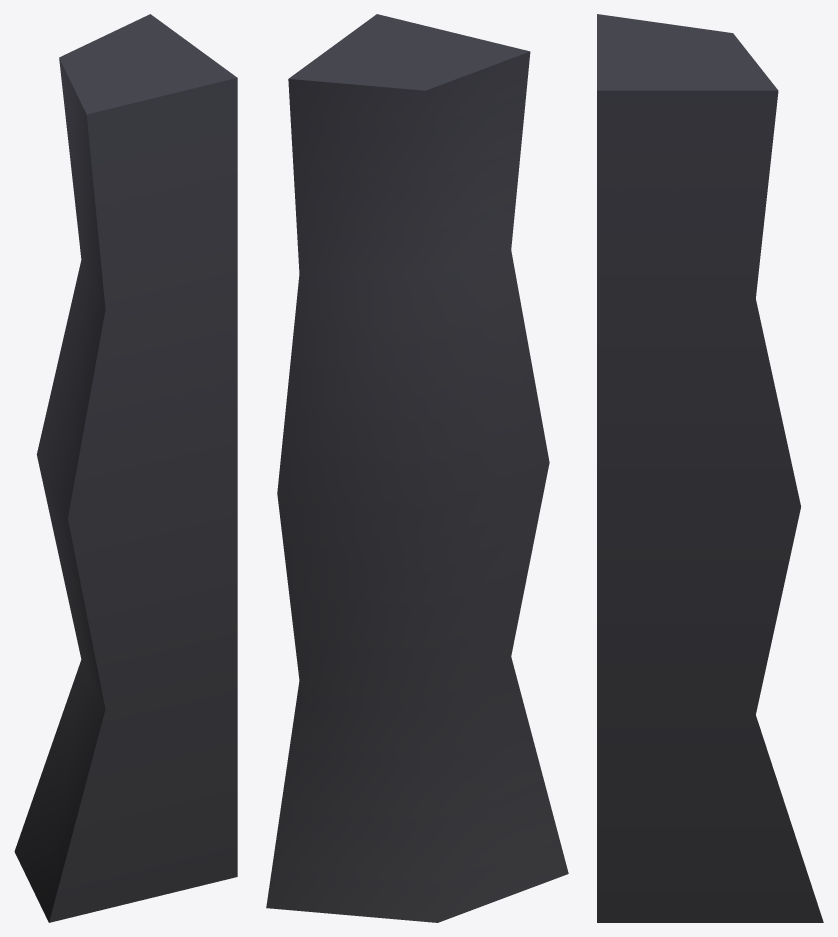
The model's file is template-wall-corner.fbx.
3 views of the same model, side by side, from view 1: azimuth 30°, elevation 25°; view 2: azimuth 150°, elevation 25°; view 3: azimuth 270°, elevation 25° (orthographic). The views are drawn at different scales.
Visible parts, largest first — view 1: template-wall-corner; view 2: template-wall-corner; view 3: template-wall-corner.
Part boxes in pixels (left/top/right/bottom): template-wall-corner: left=14, top=14, right=237, bottom=922; template-wall-corner: left=266, top=14, right=568, bottom=922; template-wall-corner: left=597, top=14, right=823, bottom=922.
Size of the model in its own units: 100 by 405 by 100.
